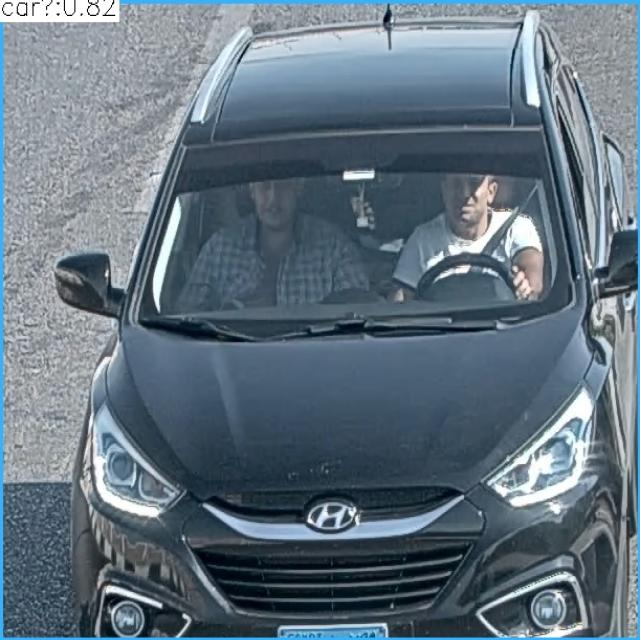windshield: (132, 128, 557, 321)
